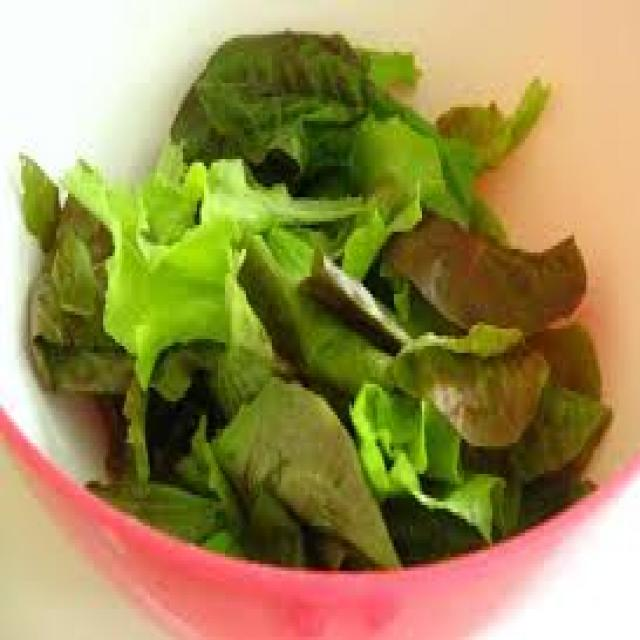organic waste: (17, 28, 610, 564), (66, 142, 270, 398), (169, 24, 415, 187), (209, 363, 401, 564), (101, 200, 237, 470), (11, 138, 140, 394), (345, 380, 525, 540), (384, 208, 582, 342), (82, 405, 239, 550), (316, 80, 474, 214), (389, 322, 551, 446), (385, 464, 600, 554), (197, 263, 288, 412), (429, 69, 549, 163), (504, 380, 614, 474), (528, 318, 607, 394), (230, 488, 305, 564)
